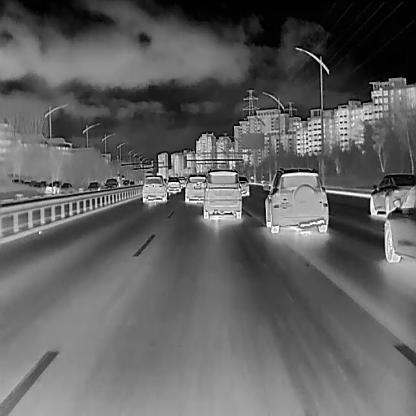car: (262, 166, 328, 233), (382, 182, 416, 263), (368, 171, 416, 218), (198, 168, 242, 218), (184, 173, 207, 204), (141, 174, 167, 201), (103, 176, 119, 192), (238, 174, 249, 196), (166, 174, 179, 192), (86, 180, 100, 194), (58, 181, 73, 194), (46, 179, 59, 194), (176, 176, 184, 187), (121, 179, 129, 187), (128, 180, 134, 186)
